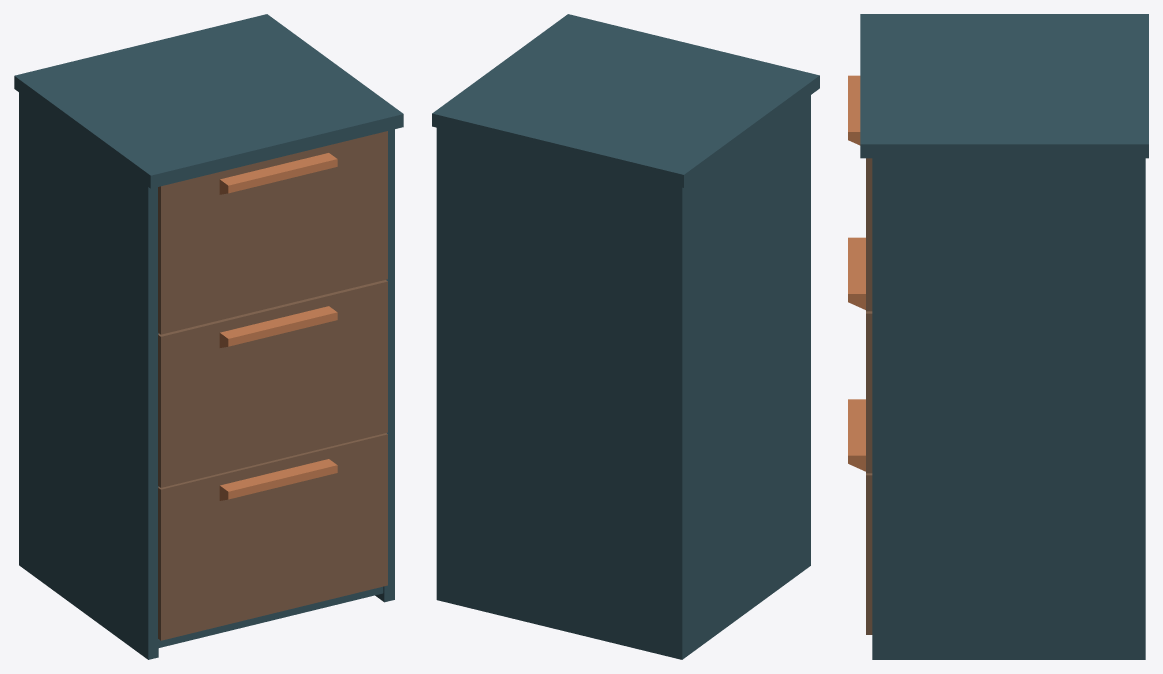
Rendered from file_cabinet_medium.glb.
3 renders of one model, left to right at view 1: azimuth 30°, elevation 25°; view 2: azimuth 150°, elevation 25°; view 3: azimuth 270°, elevation 25°, orthographic. The views are drawn at different scales.
Parts seen in each view (by area): view 1: file_cabinet_medium, Drawer B 2, Drawer B 3, Drawer B 1; view 2: file_cabinet_medium; view 3: file_cabinet_medium, Drawer B 2, Drawer B 3, Drawer B 1.
Boxes of the visible parts, left/top/right/bottom form: file_cabinet_medium: left=14, top=14, right=403, bottom=659; Drawer B 2: left=158, top=280, right=387, bottom=487; Drawer B 3: left=158, top=433, right=387, bottom=640; Drawer B 1: left=158, top=131, right=387, bottom=334; file_cabinet_medium: left=432, top=14, right=819, bottom=659; file_cabinet_medium: left=860, top=14, right=1148, bottom=659; Drawer B 2: left=848, top=237, right=872, bottom=473; Drawer B 3: left=848, top=399, right=872, bottom=634; Drawer B 1: left=848, top=75, right=872, bottom=311.
Bounding box in the file's own units: 0.5682 × 1.05 × 0.5538.
Materials: 1 (1 with a texture image).
